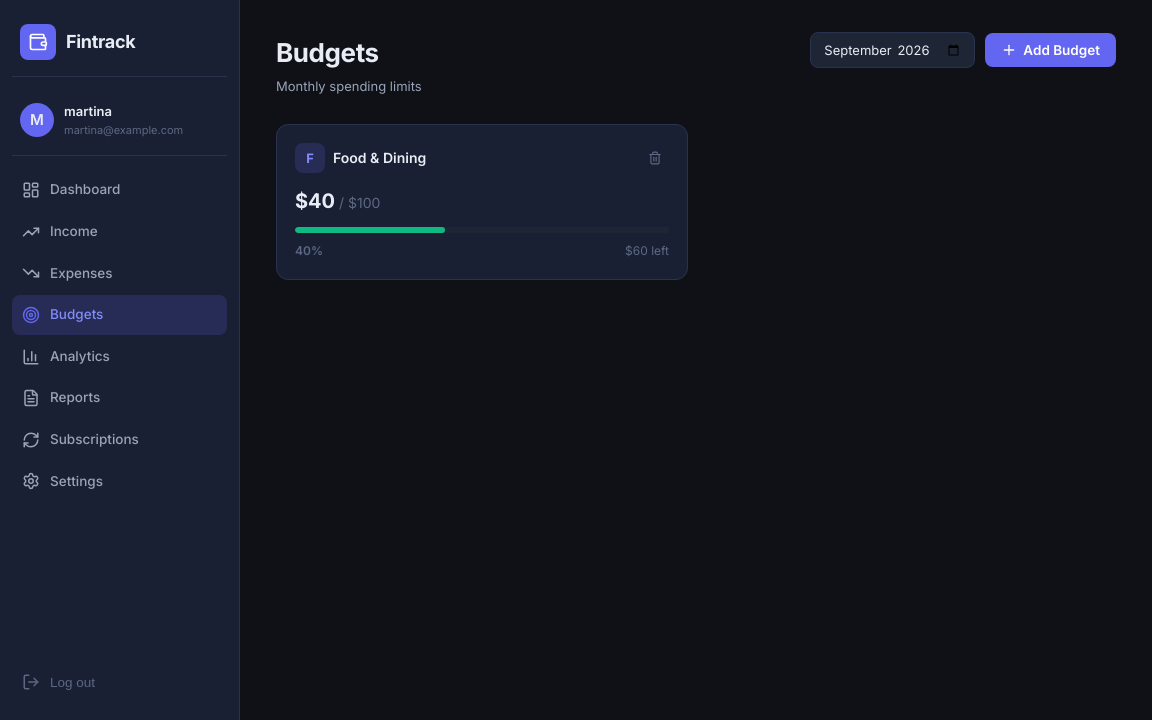
Test: creating › cancelling closes the form without sending anything
The width and height of the screenshot is (1152, 720).
expect the text "Food & Dining" is shown: met, box top-left (333, 147), bottom-right (426, 170)
Click the button "Add Budget" at (1051, 50), box top-left (985, 33), bottom-right (1116, 67)
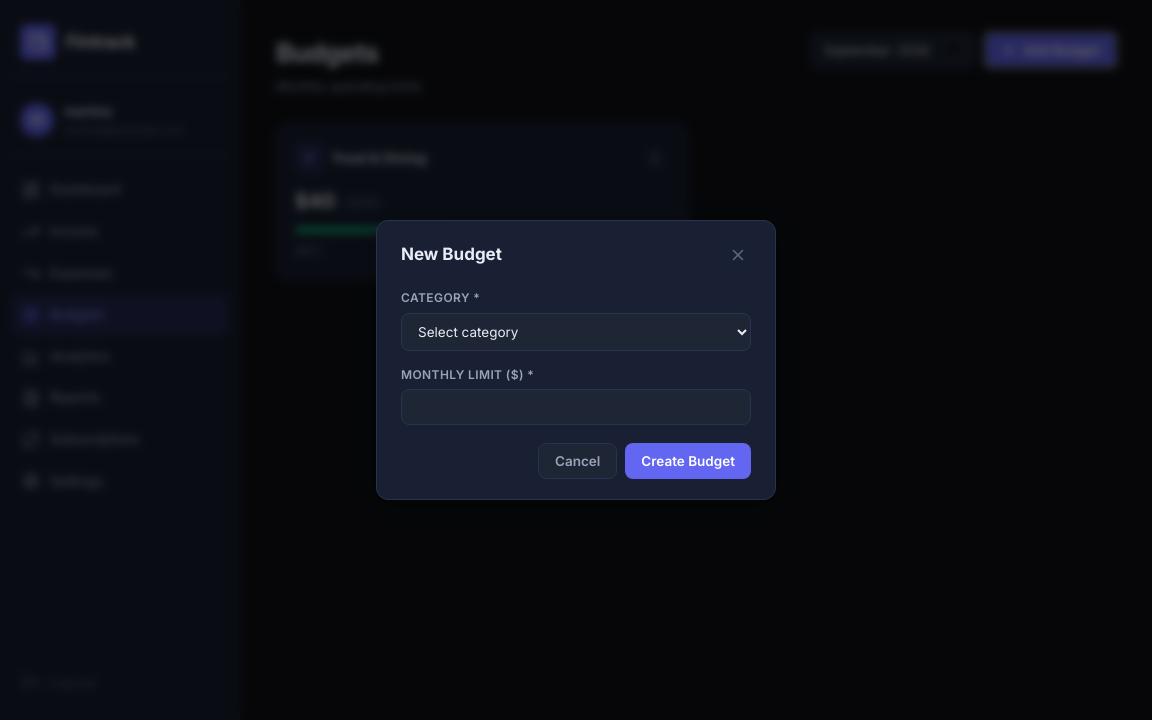
Click the button "Cancel" at (578, 461), box top-left (538, 443), bottom-right (617, 479)
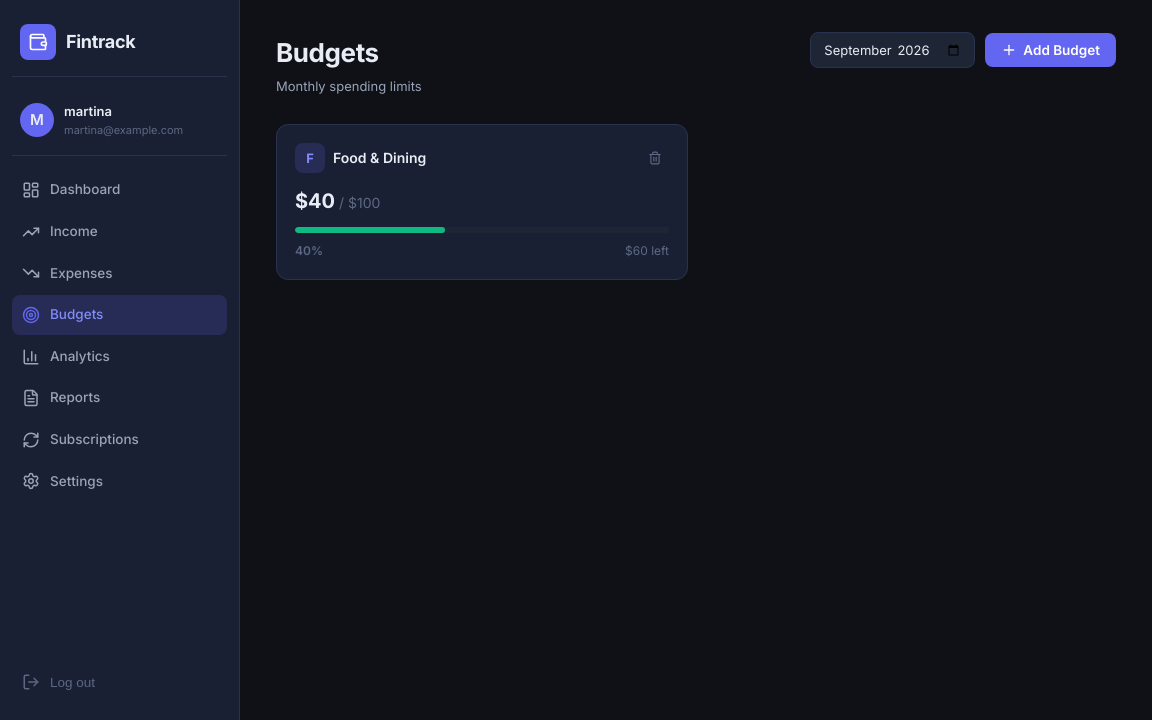
expect the heading "New Budget" is gone: met
